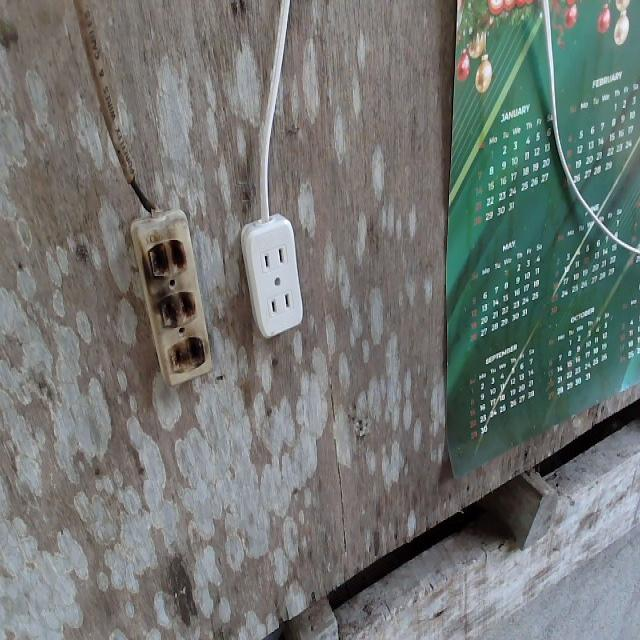-: (140, 229, 208, 379)
